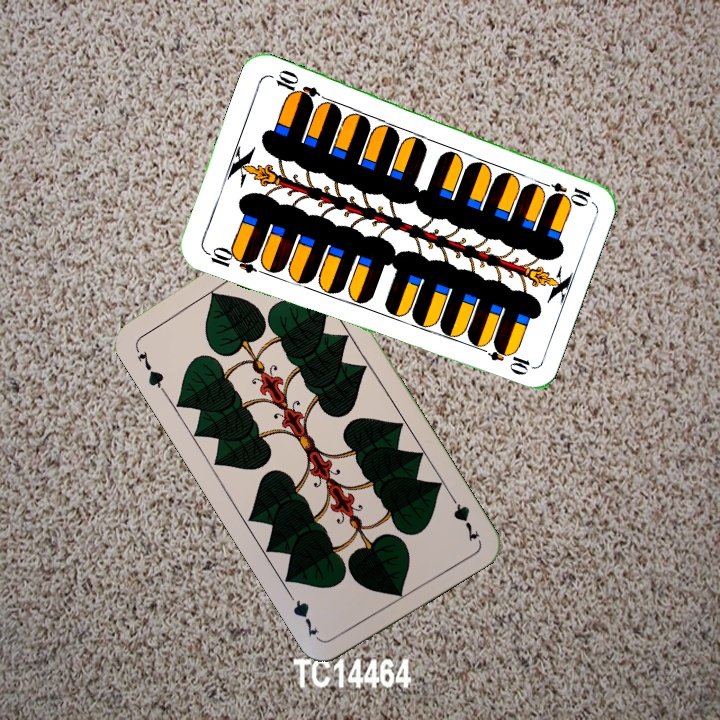E10: (201, 242, 259, 276), (535, 177, 593, 206)
G7: (444, 488, 482, 544), (131, 342, 168, 396)
